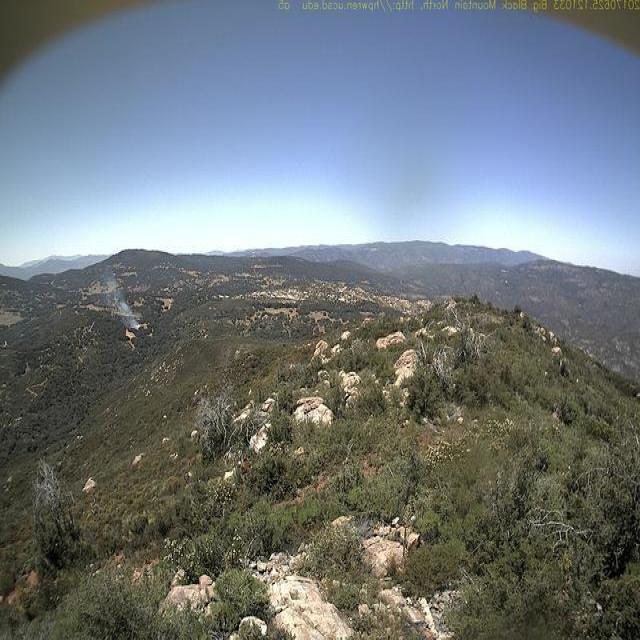smoke: (93, 263, 145, 333)
